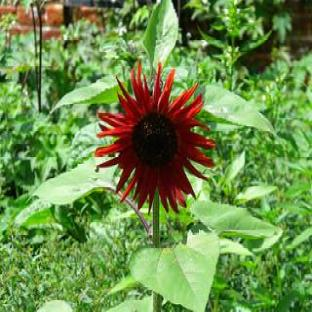sunflower: (95, 61, 217, 243)
